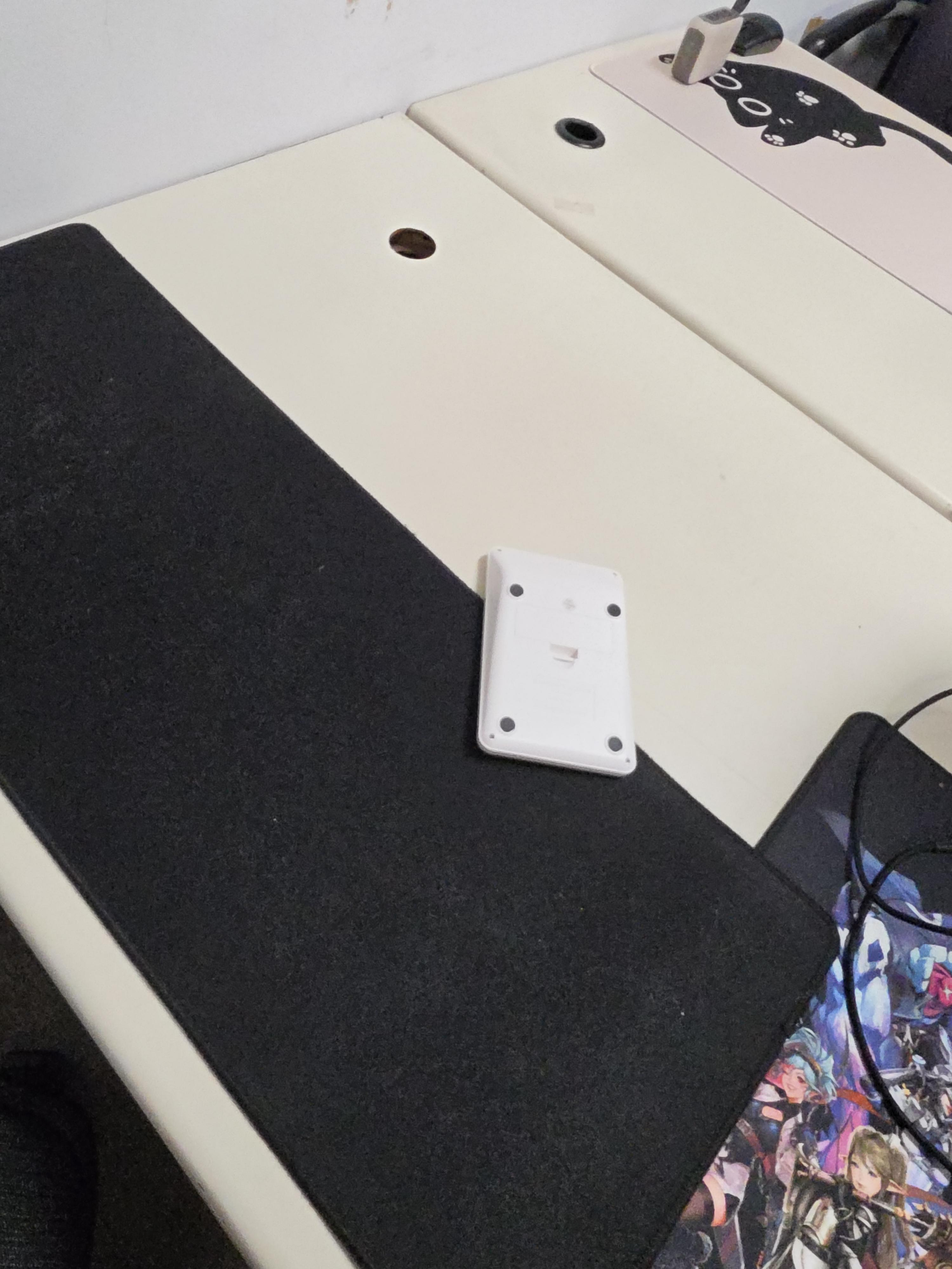calculator: (476, 546, 638, 777)
